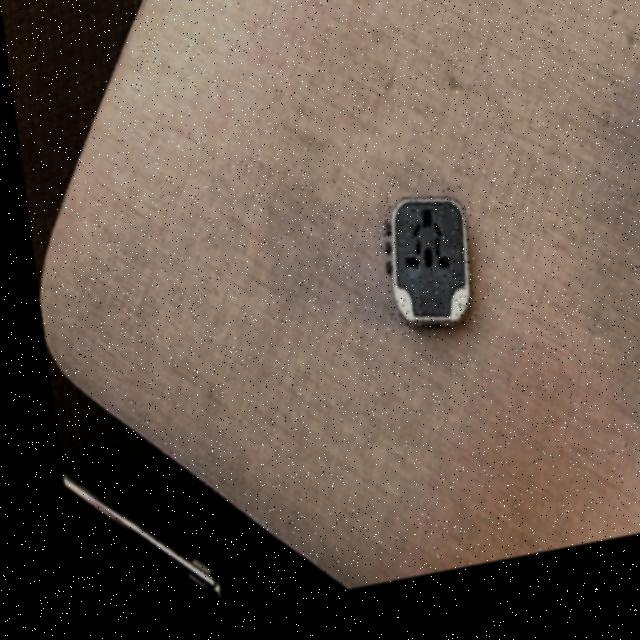adapter: (368, 203, 468, 350)
